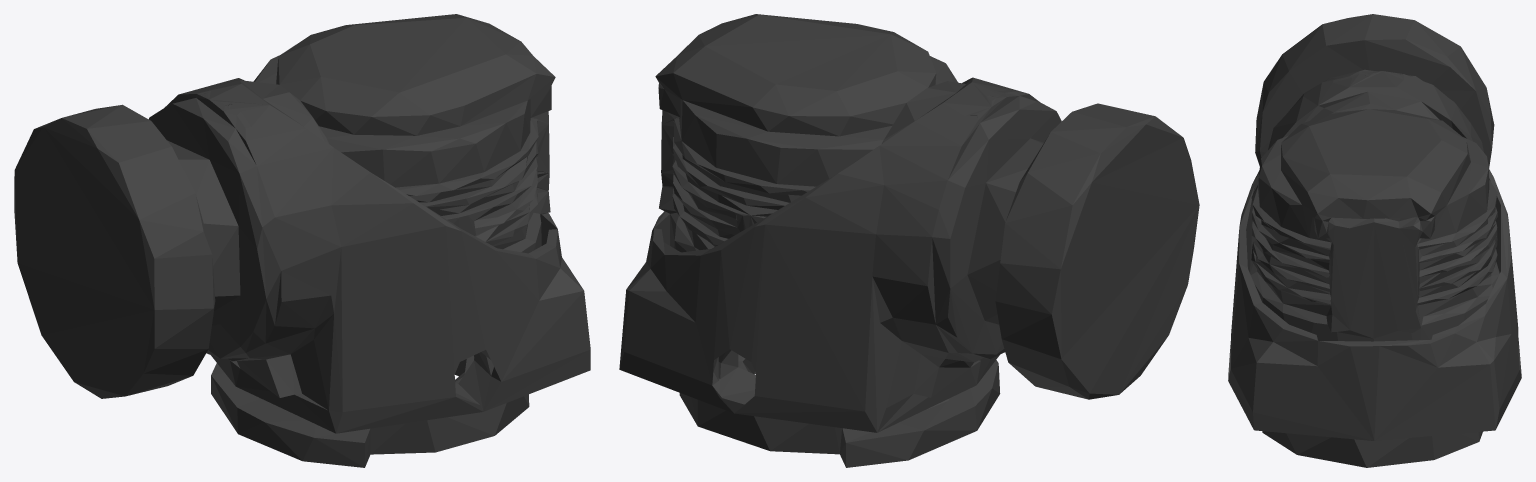
The model's file is front_right_hip_compressed.dae.
3 views of the same model, side by side, from view 1: azimuth 30°, elevation 25°; view 2: azimuth 150°, elevation 25°; view 3: azimuth 270°, elevation 25° (orthographic). The views are drawn at different scales.
Parts seen in each view (by area): view 1: node; view 2: node; view 3: node.
Boxes of the visible parts, left/top/right/bottom form: node: left=14, top=14, right=590, bottom=467; node: left=619, top=14, right=1199, bottom=467; node: left=1228, top=14, right=1521, bottom=467.
Bounding box in the file's own units: 0.1422 × 0.1 × 0.0945.
Materials: 1 (1 with a texture image).
